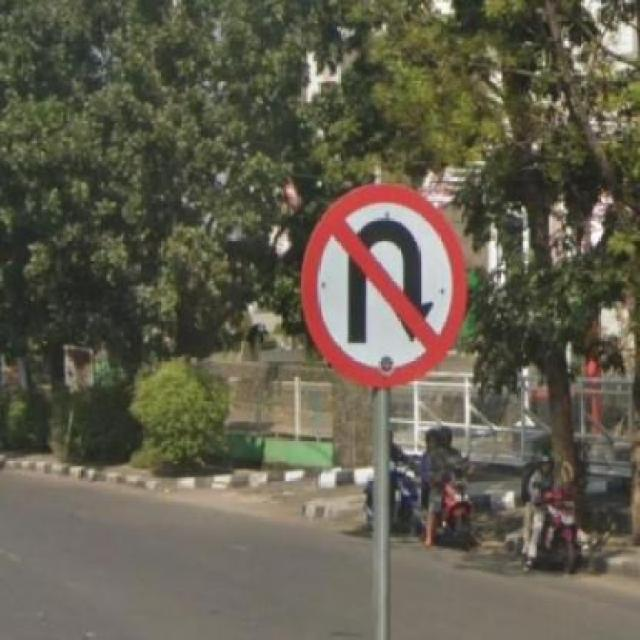u turn prohibited: (294, 182, 469, 391)
